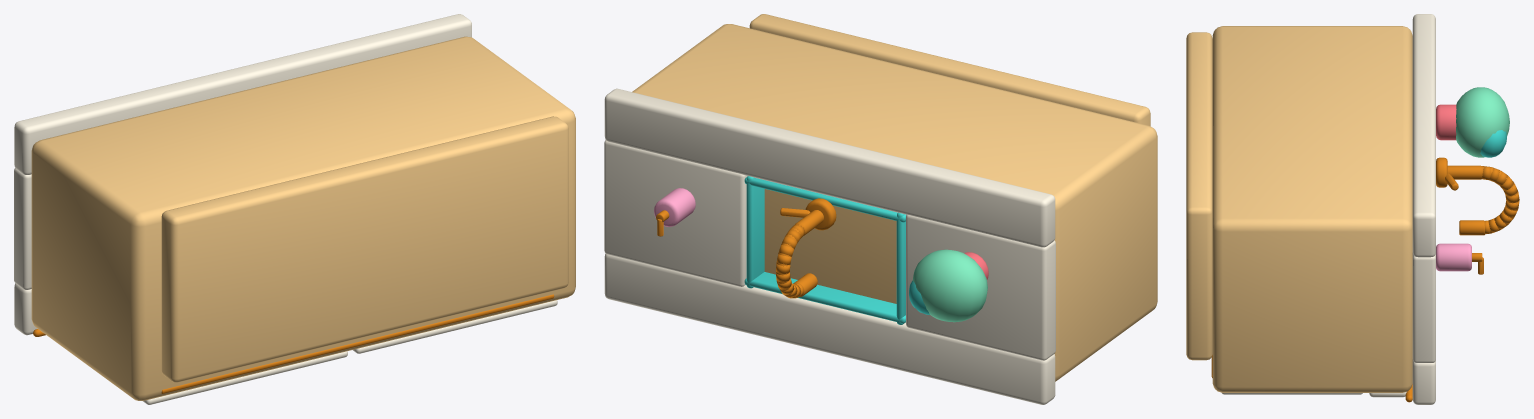
The model's file is KitchenSinkCabinet_Premium.fbx.
3 views of the same model, side by side, from view 1: azimuth 30°, elevation 25°; view 2: azimuth 150°, elevation 25°; view 3: azimuth 270°, elevation 25° (orthographic). The views are drawn at different scales.
Visible parts, largest first — view 1: KitchenSinkCabinet; view 2: KitchenSinkCabinet; view 3: KitchenSinkCabinet.
Boxes of the visible parts, bbox=[...] form: KitchenSinkCabinet: bbox=[14, 14, 575, 404]; KitchenSinkCabinet: bbox=[604, 14, 1157, 404]; KitchenSinkCabinet: bbox=[1186, 14, 1519, 404].
Bounding box in the file's own units: 1.65 × 0.7634 × 1.15.
